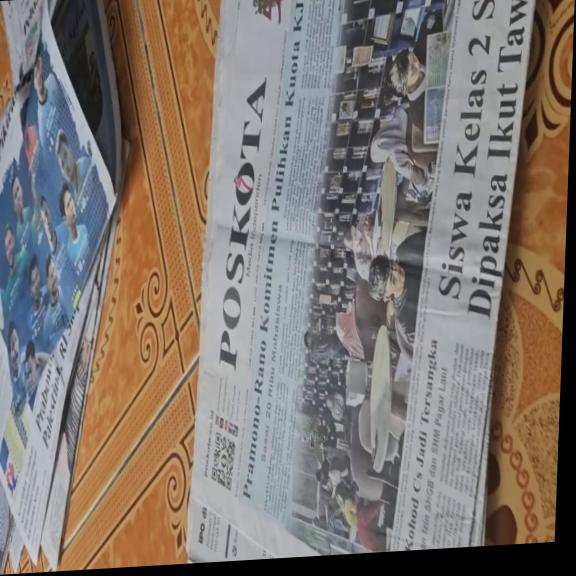Kertas: (209, 0, 542, 554)
